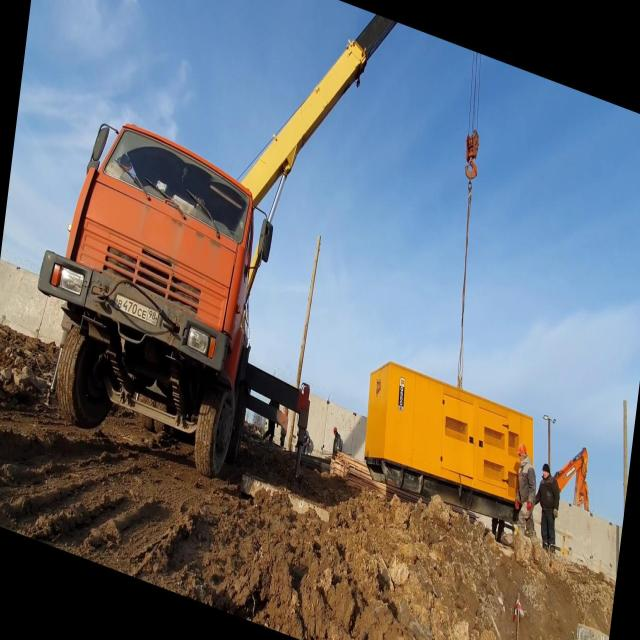crane: (22, 0, 400, 530)
